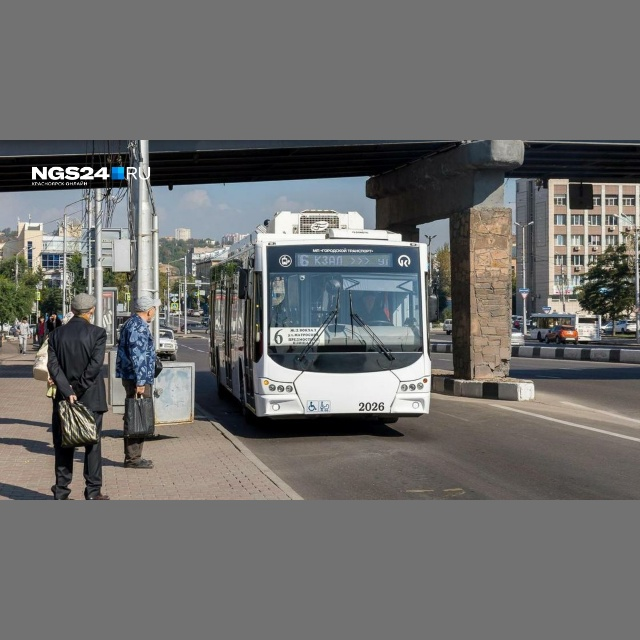Автобус: (209, 219, 428, 422)
